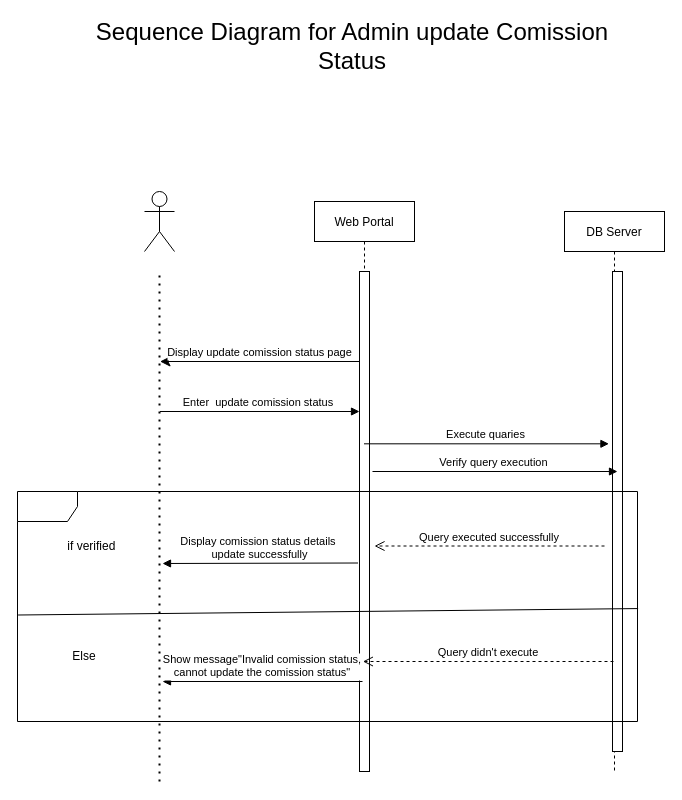
Image size: 682x800. Some labels were removed from this diagram. Each missing label, with the box of its shape:
Admin: (144, 190, 174, 252)
Alternative: (16, 490, 638, 722)
